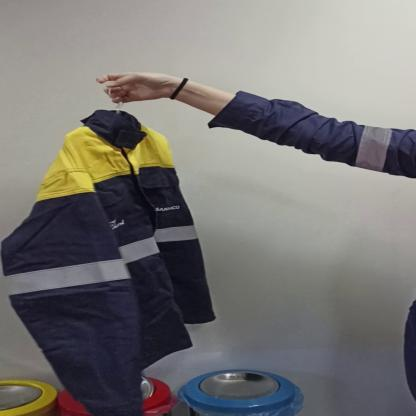C_eletrica: (6, 109, 223, 414)
